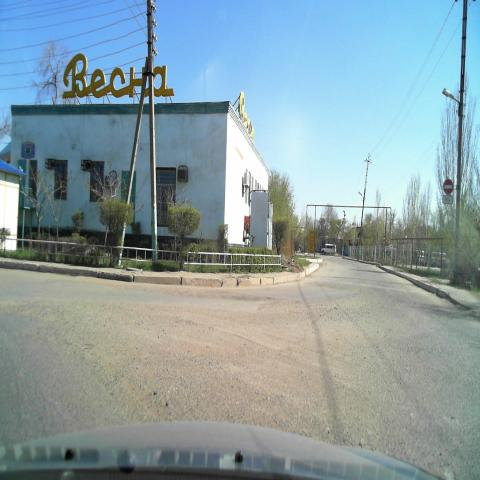3_1: (444, 179, 453, 195)
